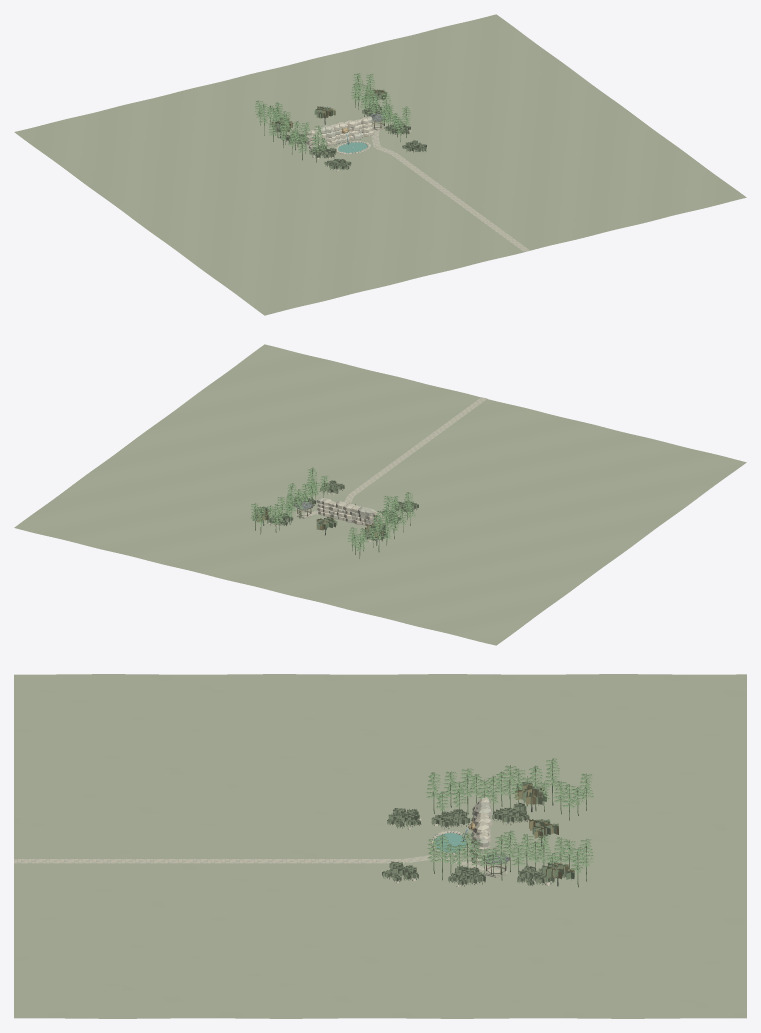
The model's file is yellow-dragon.glb.
The picture shows the model from 3 angles, top to bottom: view 1: azimuth 30°, elevation 25°; view 2: azimuth 150°, elevation 25°; view 3: azimuth 270°, elevation 25°; orthographic projection. The views are drawn at different scales.
Parts seen in each view (by area): view 1: earth, leaf3, stone, crown1, stone2, bamboo; view 2: earth, leaf3, stone, crown1, bamboo, stone2; view 3: earth, leaf3, crown1, stone, bamboo, stone2, crown2.
Part boxes in pixels (x1,y1,x2,y2): earth: (14, 14, 746, 315); leaf3: (255, 73, 411, 152); stone: (306, 117, 529, 251); crown1: (272, 89, 426, 169); stone2: (284, 116, 528, 251); bamboo: (257, 73, 408, 162); earth: (14, 344, 746, 645); leaf3: (250, 467, 415, 550); stone: (268, 397, 485, 541); crown1: (255, 480, 418, 540); bamboo: (253, 468, 412, 558); stone2: (275, 398, 487, 542); earth: (14, 674, 746, 1018); leaf3: (426, 758, 593, 873); crown1: (382, 783, 569, 884); stone: (14, 797, 550, 886); bamboo: (428, 758, 591, 887); stone2: (14, 801, 527, 873); crown2: (515, 784, 574, 879).
Size of the model in its own units: 250 by 16.09 by 225.
